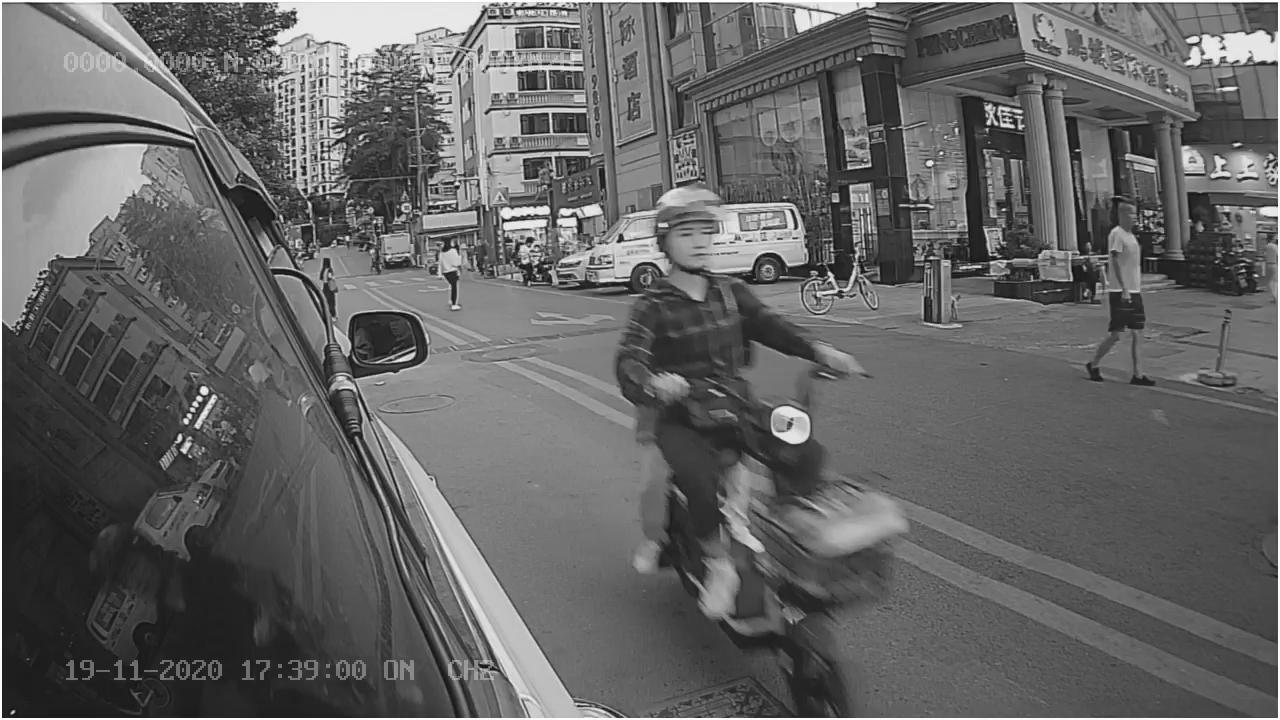person: (615, 192, 762, 414)
